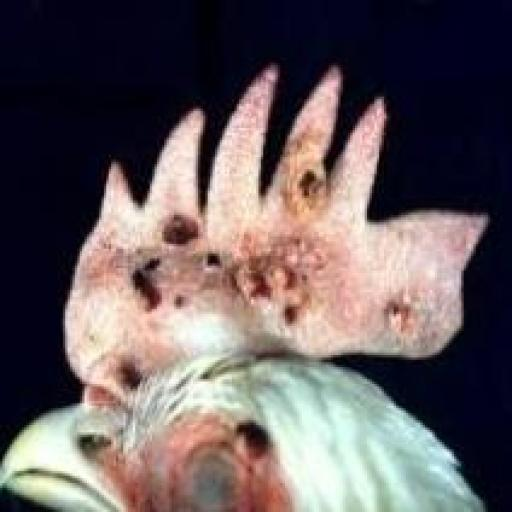disease: (141, 425, 271, 512), (240, 248, 308, 340), (110, 263, 202, 328), (276, 139, 334, 232), (226, 418, 298, 475), (372, 297, 438, 350), (147, 216, 218, 254)
